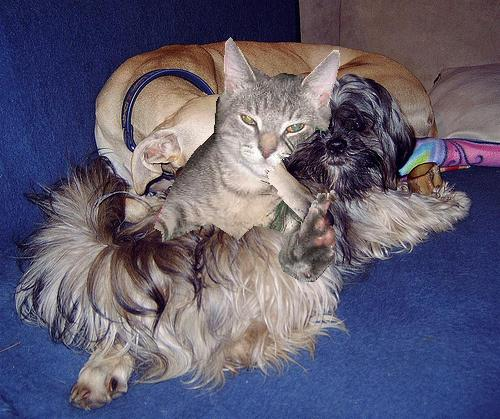tampered: (155, 38, 340, 282)
